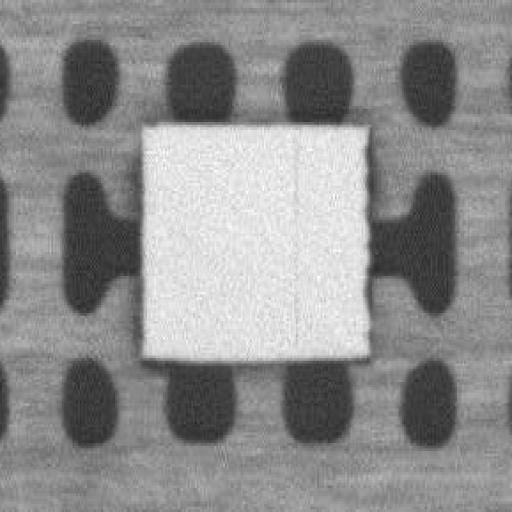DIE_CRACK: (286, 124, 300, 348)
